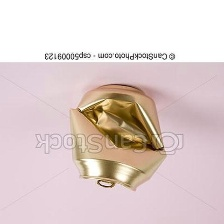can: (60, 75, 171, 196)
